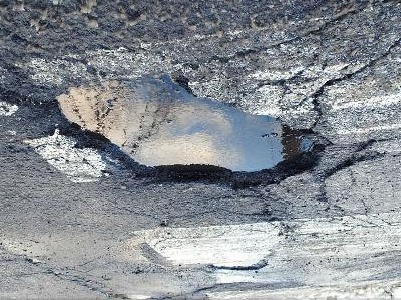pothole: (50, 71, 330, 193), (207, 259, 270, 274)
